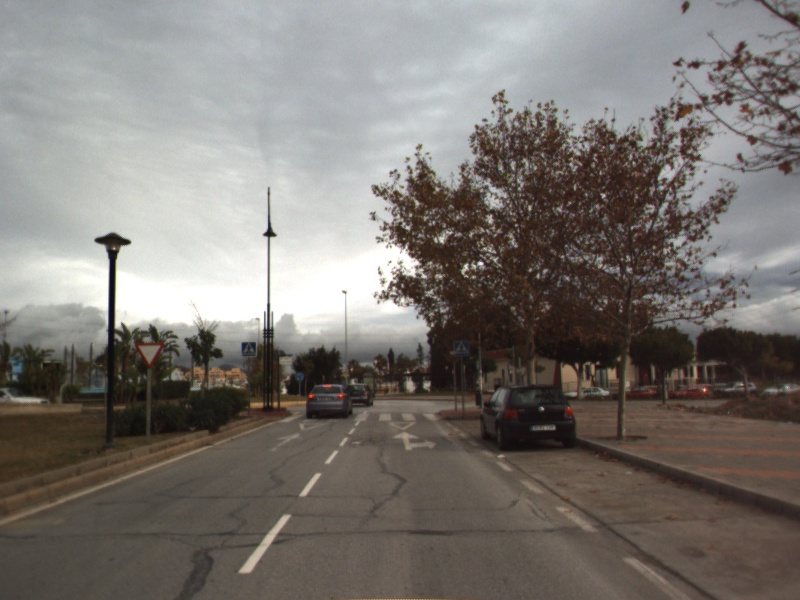STRAIGHT: (267, 431, 305, 453)
STRAIGHT_RIGHT: (390, 430, 439, 452)
